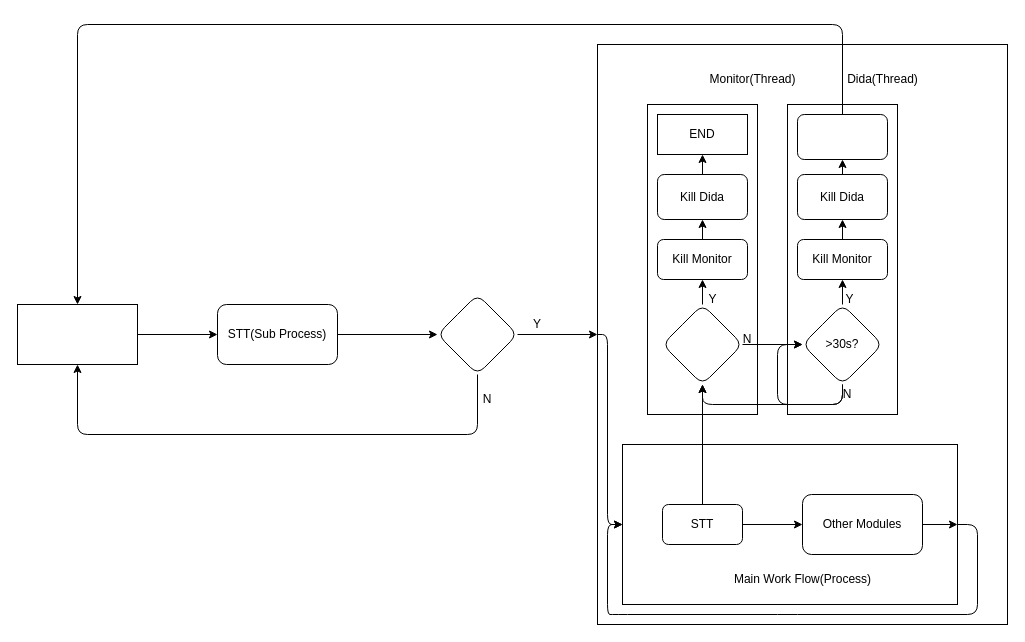
This 1025x642 diagram has some shape labels left out. Each missing label, with the centre of its shape:
"BEGIN" belongs at pixel 77 334.
"Key word?" belongs at pixel 477 334.
"Kill MWF" belongs at pixel 842 137.
"words?" belongs at pixel 702 344.
